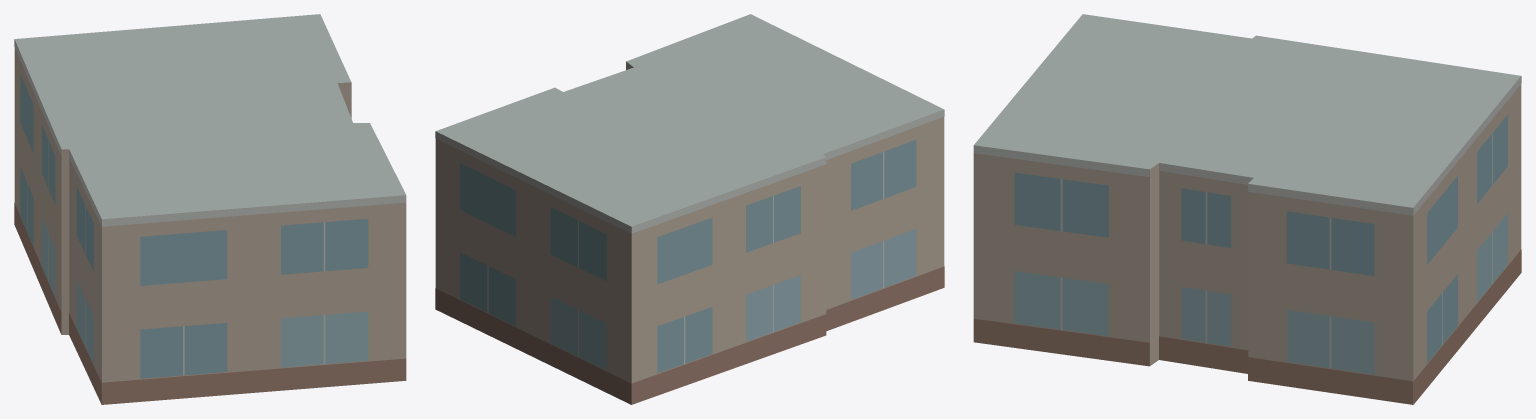
File: survey-upis-32713068.glb
3 renders of one model, left to right at view 1: azimuth 30°, elevation 25°; view 2: azimuth 150°, elevation 25°; view 3: azimuth 270°, elevation 25°, orthographic. The views are drawn at different scales.
Parts seen in each view (by area): view 1: survey-upis-32713068.tmp; view 2: survey-upis-32713068.tmp; view 3: survey-upis-32713068.tmp.
Part boxes in pixels (x1,y1,x2,y2): survey-upis-32713068.tmp: [14, 14, 406, 404]; survey-upis-32713068.tmp: [435, 14, 944, 404]; survey-upis-32713068.tmp: [973, 14, 1521, 404].
Bounding box in the file's own units: 12.89 × 6.1 × 15.38.
